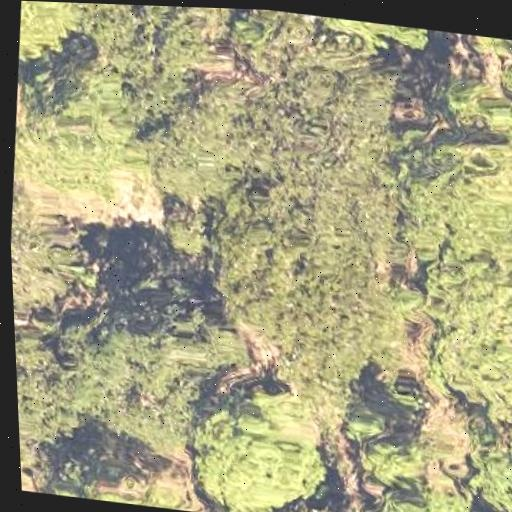tree-top: (208, 189, 412, 392), (56, 281, 252, 427), (244, 43, 415, 202), (181, 371, 337, 512), (8, 44, 139, 193), (406, 252, 512, 425), (394, 130, 512, 280), (145, 76, 251, 204), (96, 4, 218, 108), (14, 315, 80, 491), (9, 197, 101, 306), (337, 398, 437, 494), (63, 472, 209, 512), (455, 425, 512, 512), (16, 1, 84, 72), (154, 195, 217, 265), (316, 16, 427, 51), (359, 483, 480, 512), (494, 44, 512, 99)
